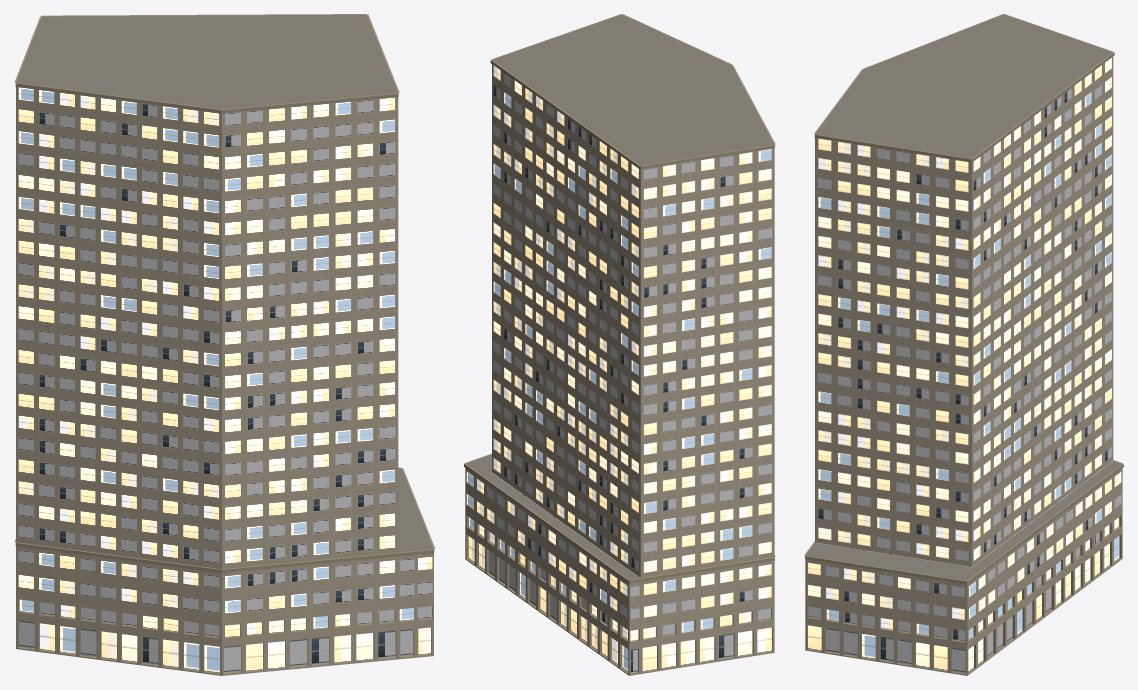
The model's file is mobimo_tower.glb.
3 renders of one model, left to right at view 1: azimuth 30°, elevation 25°; view 2: azimuth 150°, elevation 25°; view 3: azimuth 270°, elevation 25°, orthographic. The views are drawn at different scales.
Visible parts, largest first — view 1: mobimo_tower; view 2: mobimo_tower; view 3: mobimo_tower.
Boxes of the visible parts, x1,y1,x2,y2 form: mobimo_tower: (14, 14, 435, 675); mobimo_tower: (464, 14, 775, 675); mobimo_tower: (804, 14, 1123, 675).
Bounding box in the file's own units: 59.93 × 88.27 × 50.86.
3 materials, 3 textured.
